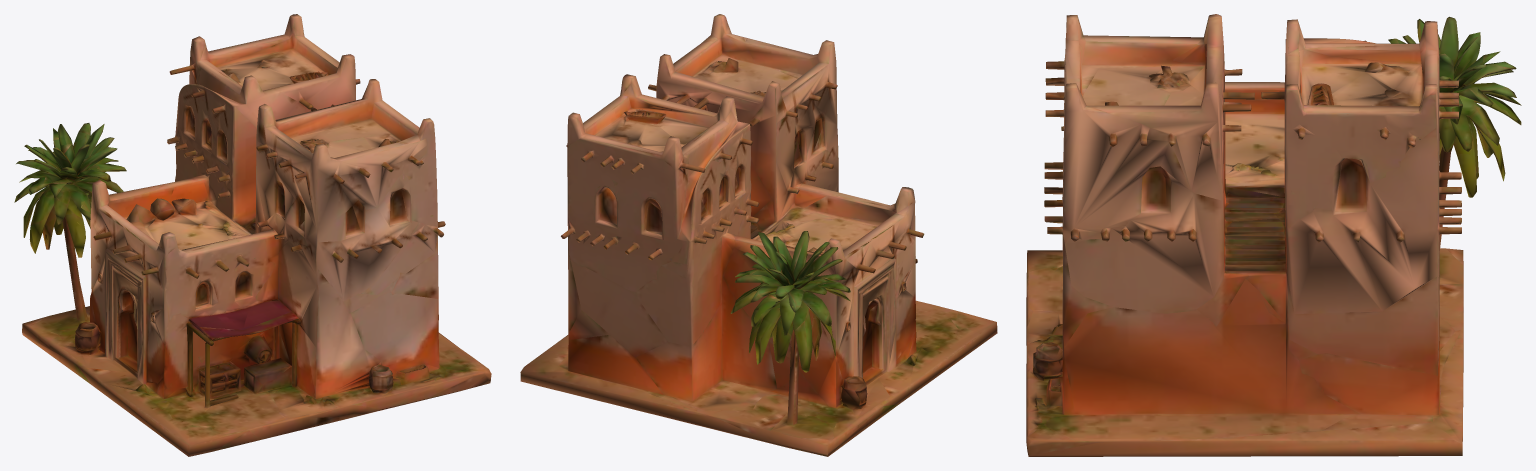
File: house_19.glb
3 renders of one model, left to right at view 1: azimuth 30°, elevation 25°; view 2: azimuth 150°, elevation 25°; view 3: azimuth 270°, elevation 25°, orthographic. The views are drawn at different scales.
Parts seen in each view (by area): view 1: material; view 2: material; view 3: material.
Boxes of the visible parts, x1=… form: material: x1=14, y1=14, x2=491, y2=456; material: x1=520, y1=14, x2=997, y2=456; material: x1=1026, y1=14, x2=1521, y2=456.
Bounding box in the file's own units: 0.7213 × 0.5909 × 0.7639.
1 material, 1 textured.
